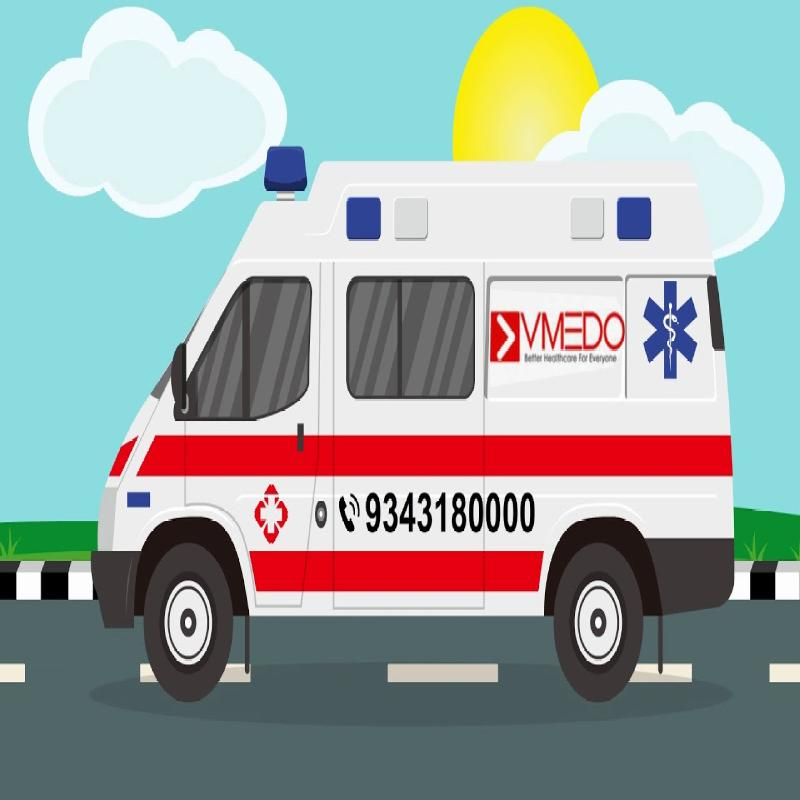AmbulanceSiren: (254, 115, 312, 203)
ambulance: (94, 140, 748, 720)
